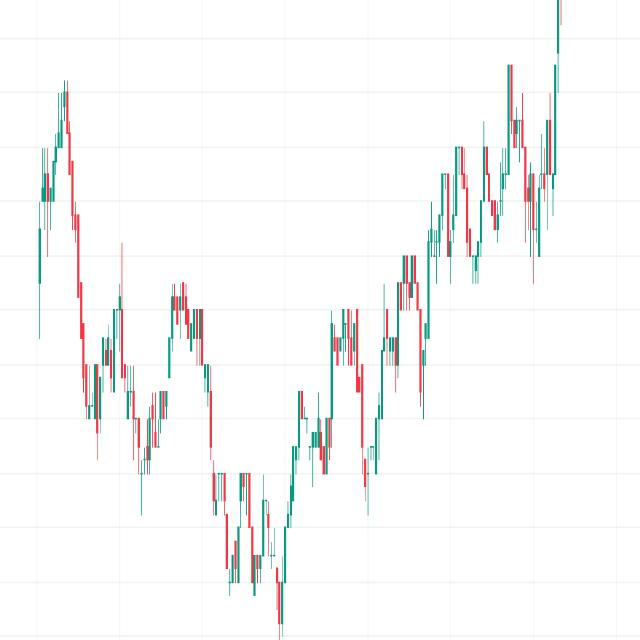Triple-Bottom: (207, 455, 295, 606)
